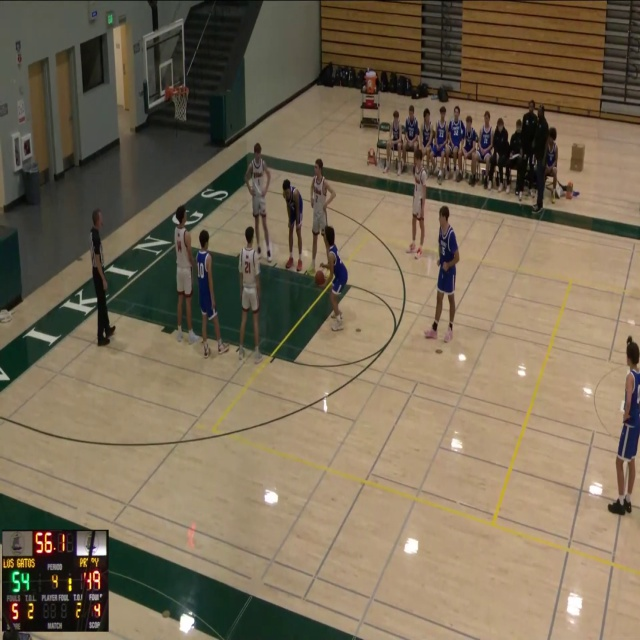Basketball: (315, 269, 325, 286)
